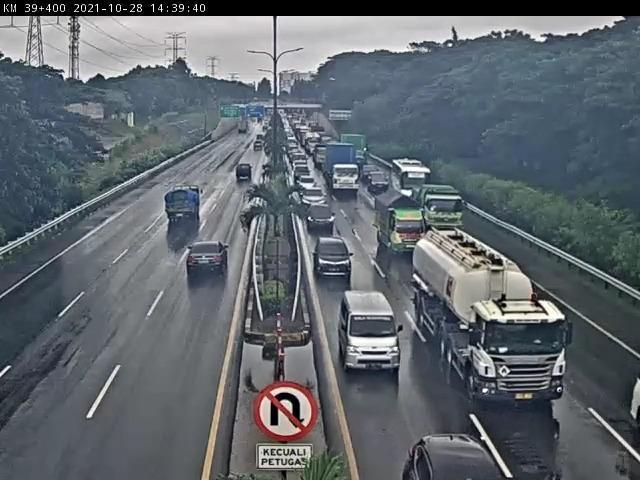bus: (390, 160, 430, 200)
car: (340, 290, 403, 374), (315, 238, 351, 276), (187, 243, 231, 273), (306, 203, 337, 229), (303, 187, 328, 209), (368, 172, 391, 194), (235, 161, 256, 181)
truck: (414, 234, 569, 402), (377, 195, 430, 256), (411, 183, 464, 228), (326, 141, 362, 195), (165, 185, 203, 222)
